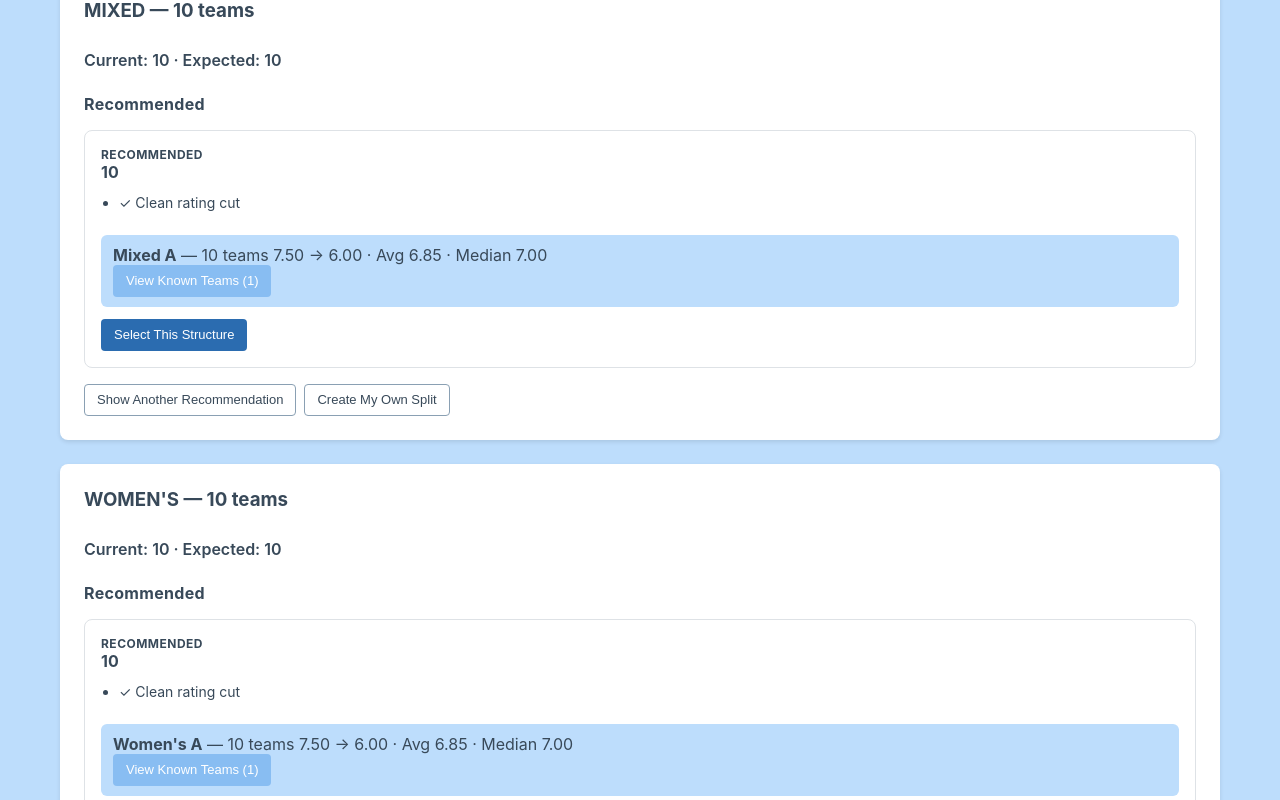
it: CreateTournamentFromRwOs Step 3 workflow › shows only one recommendation per category and replaces it when browsing
(page scrolled)
expect the element with test id "option-card-10" is shown: met, box [84,130,1196,368]
Click the button "Show Another Recommendation" at (190, 400), box [84,384,296,416]
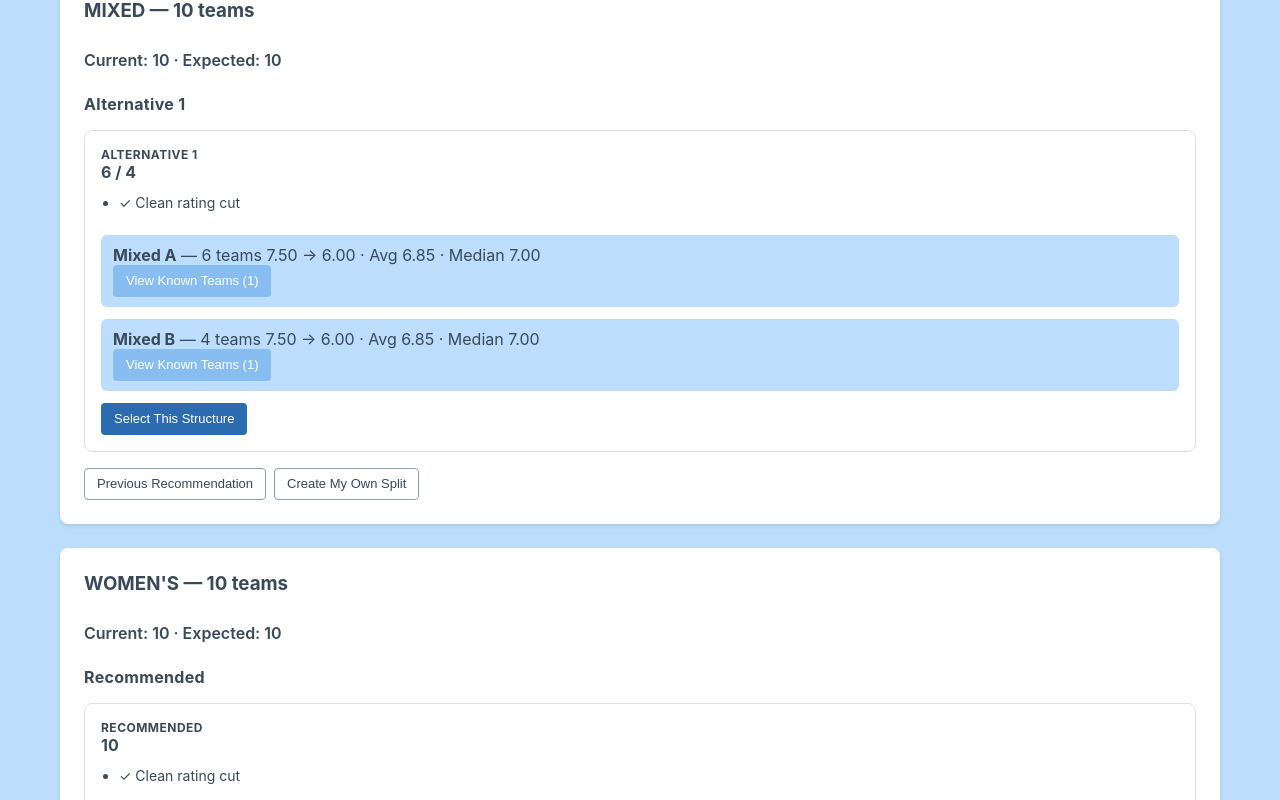
expect the button "Select This Structure" is shown: met, box [101,403,247,435]
expect the element with test id "option-card-6-4" is shown: met, box [84,130,1196,452]
